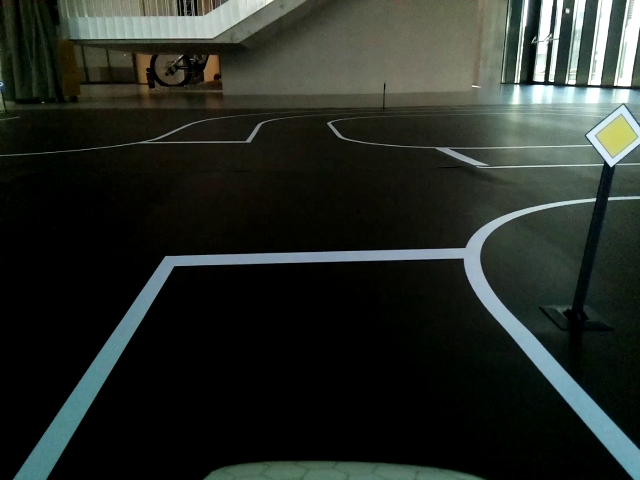priority: (582, 102, 638, 164)
